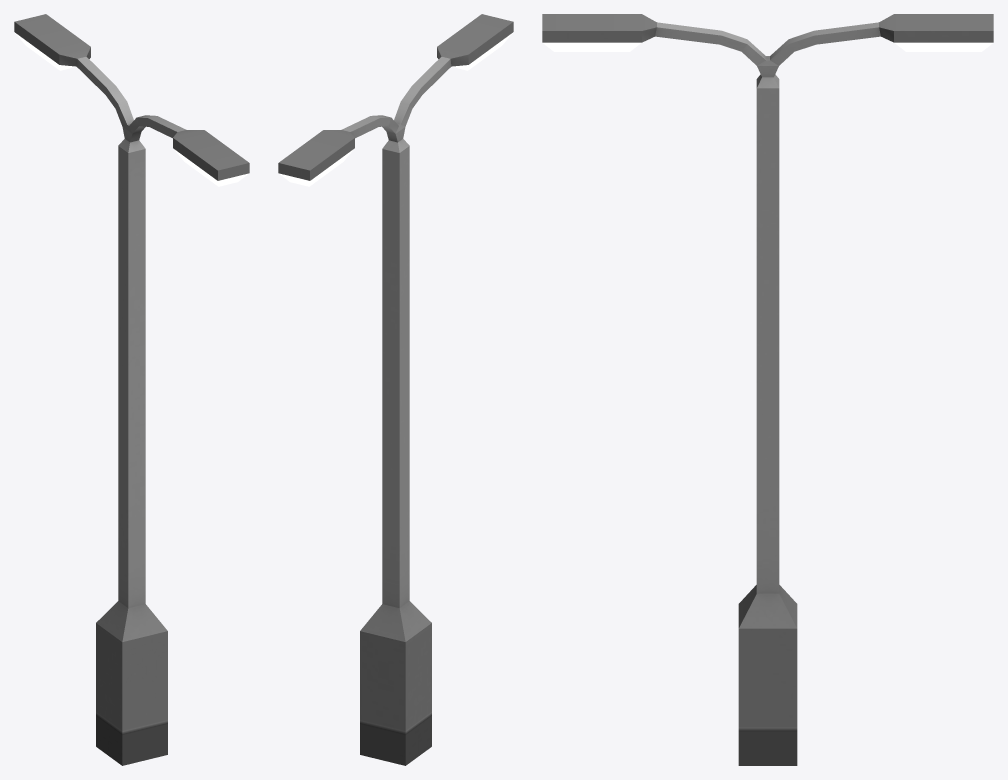
File: ROD0310001.FBX
The picture shows the model from 3 angles, left to right: view 1: azimuth 30°, elevation 25°; view 2: azimuth 150°, elevation 25°; view 3: azimuth 270°, elevation 25°; orthographic projection. The views are drawn at different scales.
Parts seen in each view (by area): view 1: smROD0310001; view 2: smROD0310001; view 3: smROD0310001.
Part boxes in pixels (left/top/right/bottom): smROD0310001: left=14, top=14, right=249, bottom=765; smROD0310001: left=278, top=14, right=513, bottom=765; smROD0310001: left=542, top=14, right=993, bottom=765.
Bounding box in the file's own units: 0.2919 × 4.03 × 2.26.
1 material, 1 textured.
